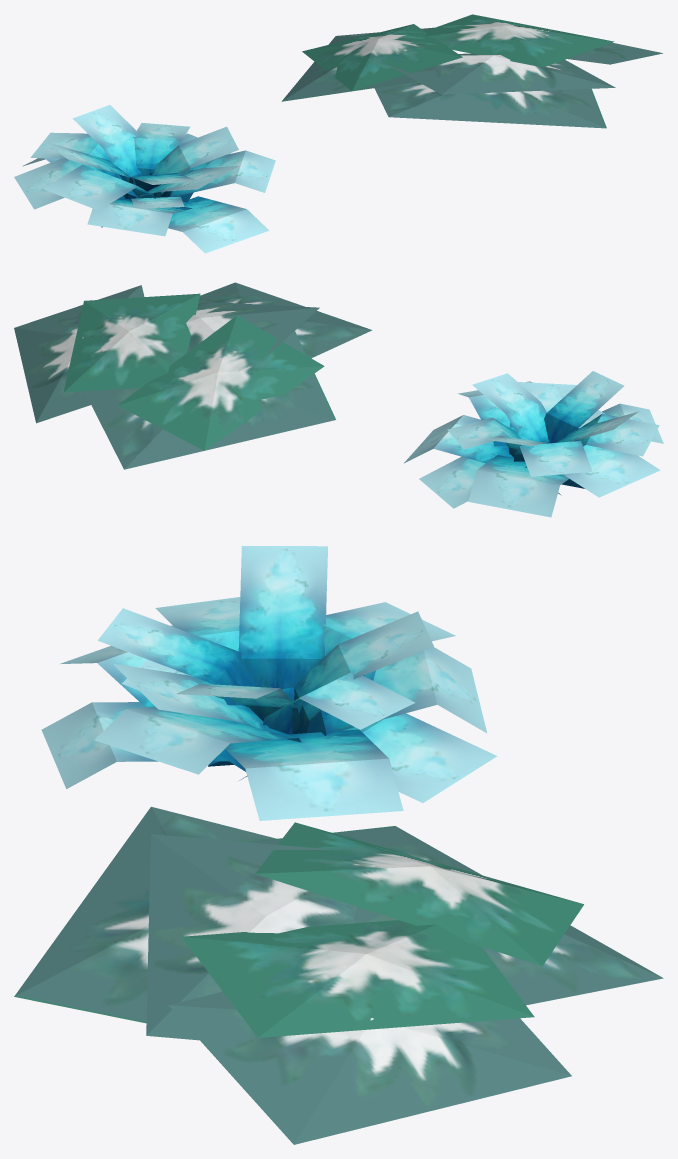
File: FB2_xuecao01.FBX
3 views of the same model, one above another, from view 1: azimuth 30°, elevation 25°; view 2: azimuth 150°, elevation 25°; view 3: azimuth 270°, elevation 25° (orthographic). The views are drawn at different scales.
Visible parts, largest first — view 1: FB2_xuecao01_001, FB2_xuecao01_002; view 2: FB2_xuecao01_001, FB2_xuecao01_002; view 3: FB2_xuecao01_001, FB2_xuecao01_002.
Part boxes in pixels (x1,y1,x2,y2): FB2_xuecao01_001: [281, 14, 662, 128]; FB2_xuecao01_002: [14, 105, 275, 253]; FB2_xuecao01_001: [14, 282, 372, 469]; FB2_xuecao01_002: [404, 371, 663, 517]; FB2_xuecao01_001: [14, 806, 663, 1144]; FB2_xuecao01_002: [41, 546, 497, 820].
Size of the model in its own units: 630 by 85.87 by 327.
1 material, 1 textured.
